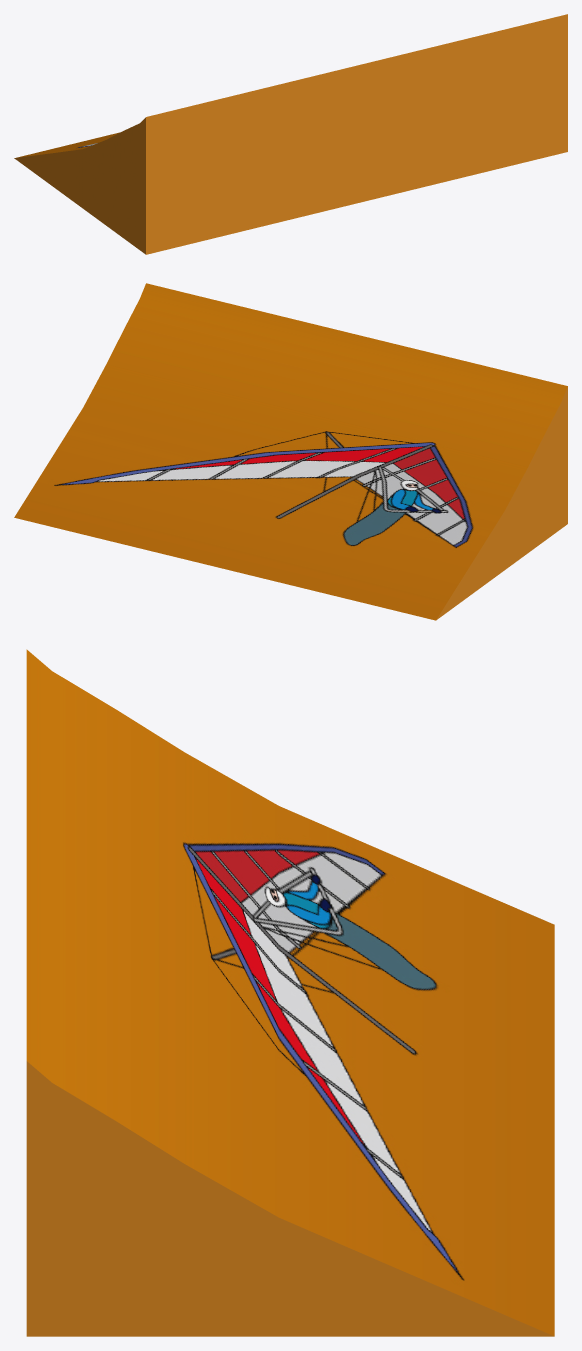
File: hand_glider.fbx
3 renders of one model, top to bottom at view 1: azimuth 30°, elevation 25°; view 2: azimuth 150°, elevation 25°; view 3: azimuth 270°, elevation 25°, orthographic. The views are drawn at different scales.
Visible parts, largest first — view 1: hand_glider; view 2: hand_glider; view 3: hand_glider.
Boxes of the visible parts, x1,y1,x2,y2 form: hand_glider: (14, 14, 567, 254); hand_glider: (14, 283, 567, 620); hand_glider: (26, 649, 554, 1336).
Size of the model in its own units: 43.26 by 13.51 by 23.47.
